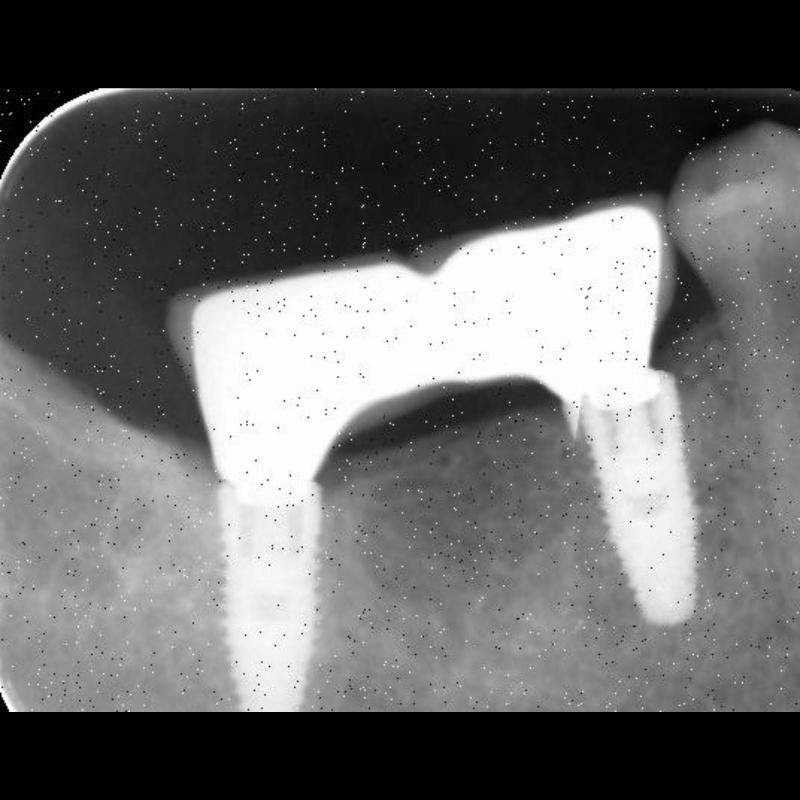Dentium: (560, 365, 732, 631), (210, 480, 334, 712)
